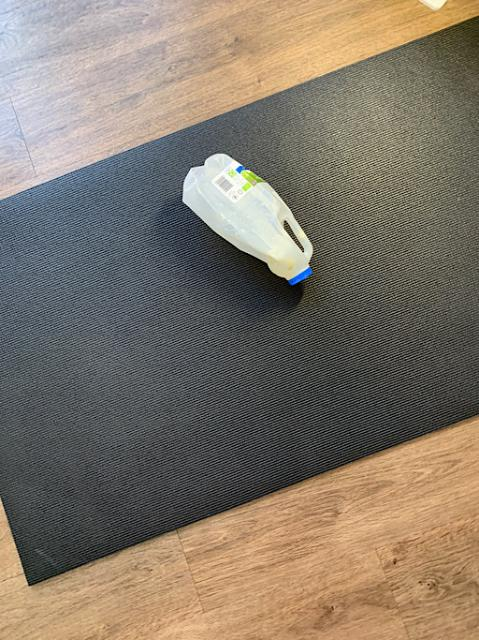plastic: (182, 153, 311, 283)
